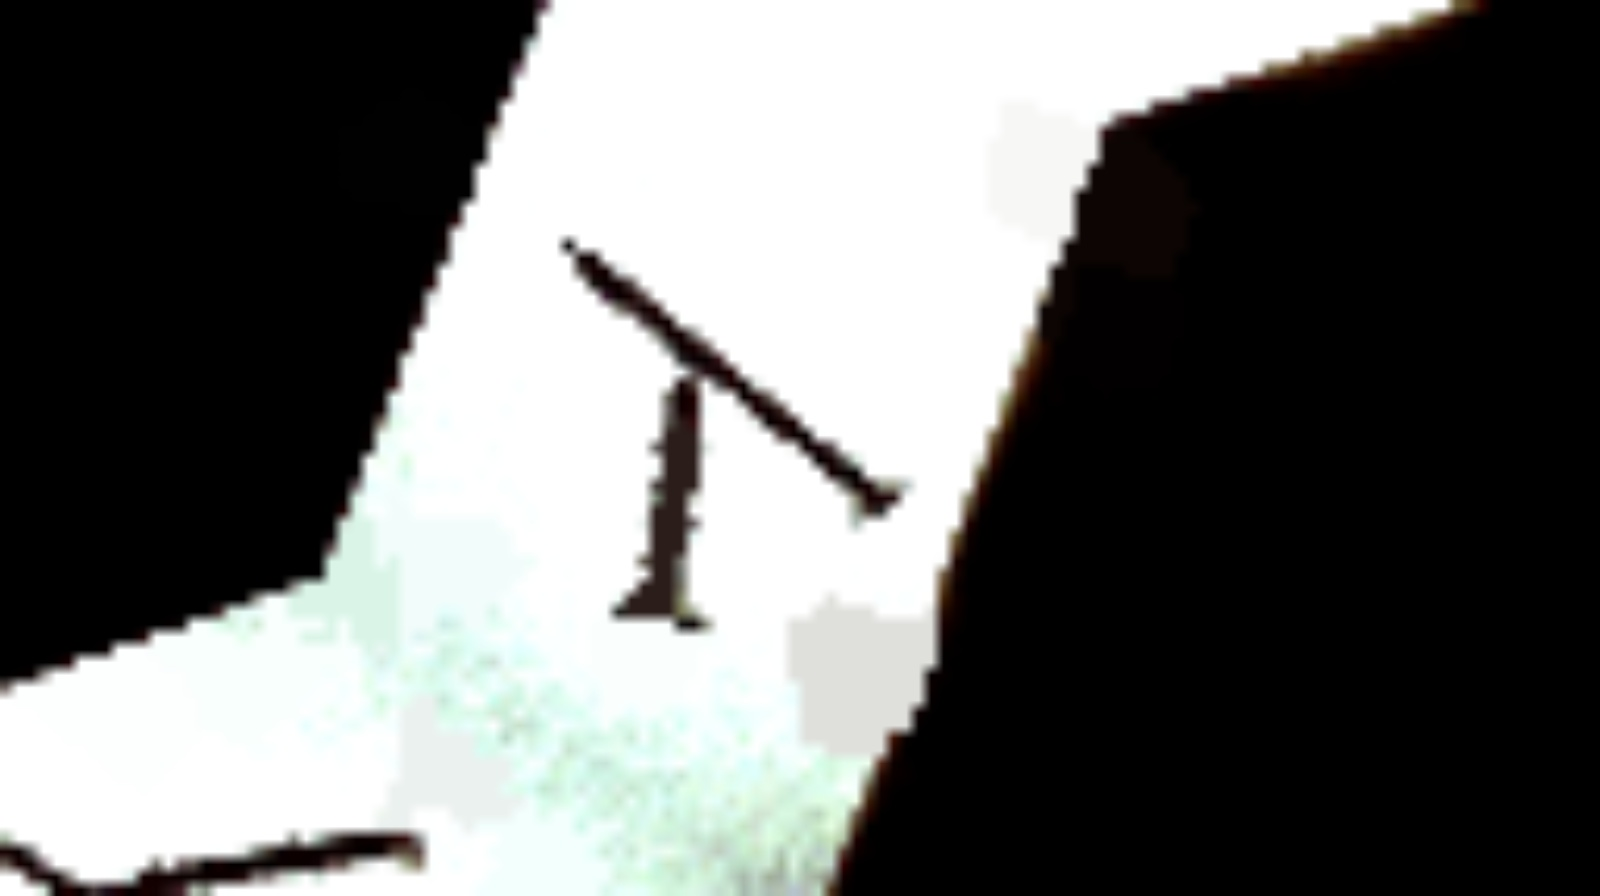S001: (489, 356, 873, 663)
S002: (516, 232, 936, 540)
